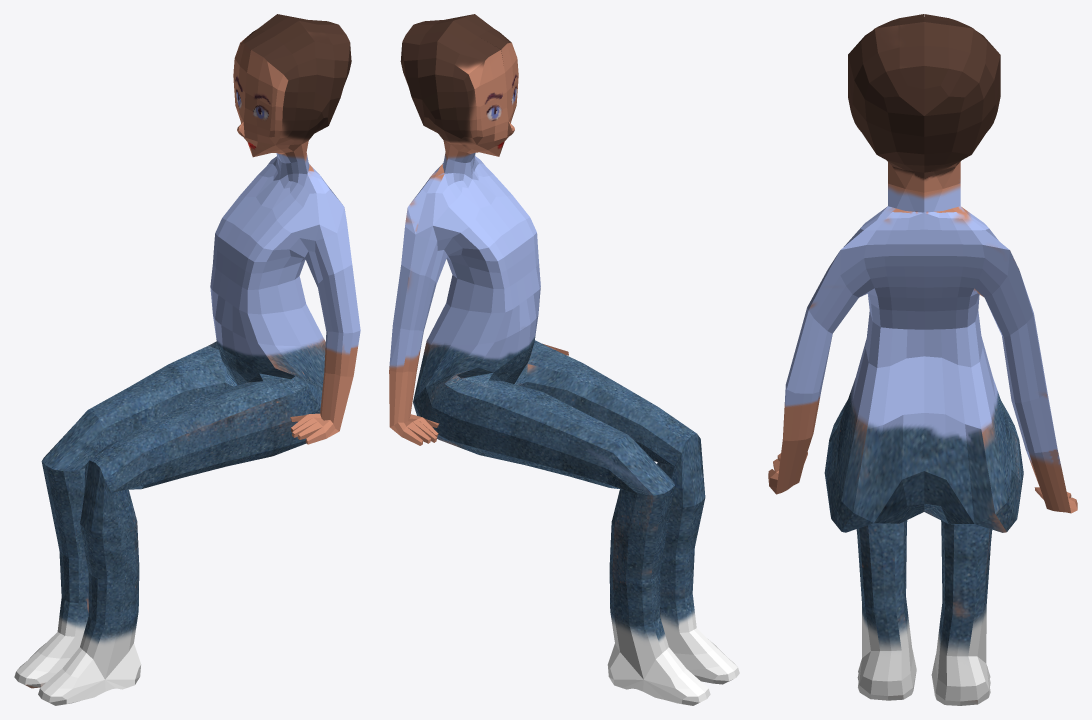
The model's file is persona final.fbx.
The picture shows the model from 3 angles, left to right: view 1: azimuth 30°, elevation 25°; view 2: azimuth 150°, elevation 25°; view 3: azimuth 270°, elevation 25°; orthographic projection. The views are drawn at different scales.
Visible parts, largest first — view 1: Cube; view 2: Cube; view 3: Cube.
Boxes of the visible parts, <box> form: Cube: <box>14,14,360,705</box>; Cube: <box>389,14,739,705</box>; Cube: <box>768,14,1077,705</box>.
Size of the model in its own units: 194 by 360 by 125.
Materials: 1 (1 with a texture image).
